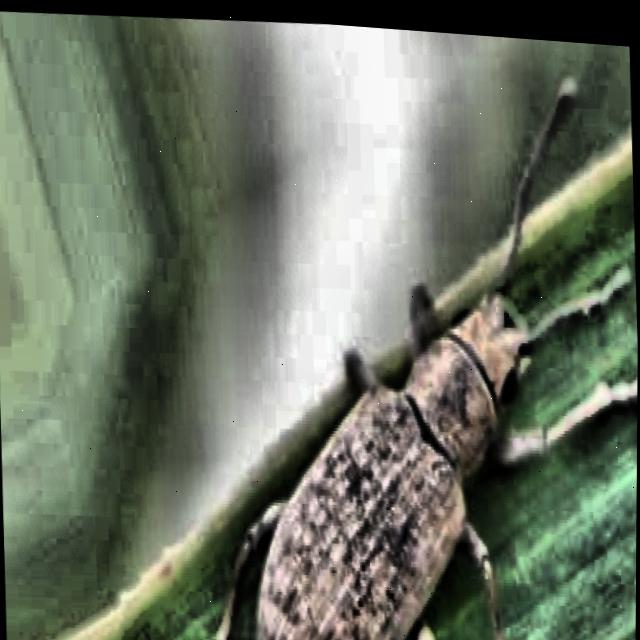Stink bug: (90, 23, 640, 640)
